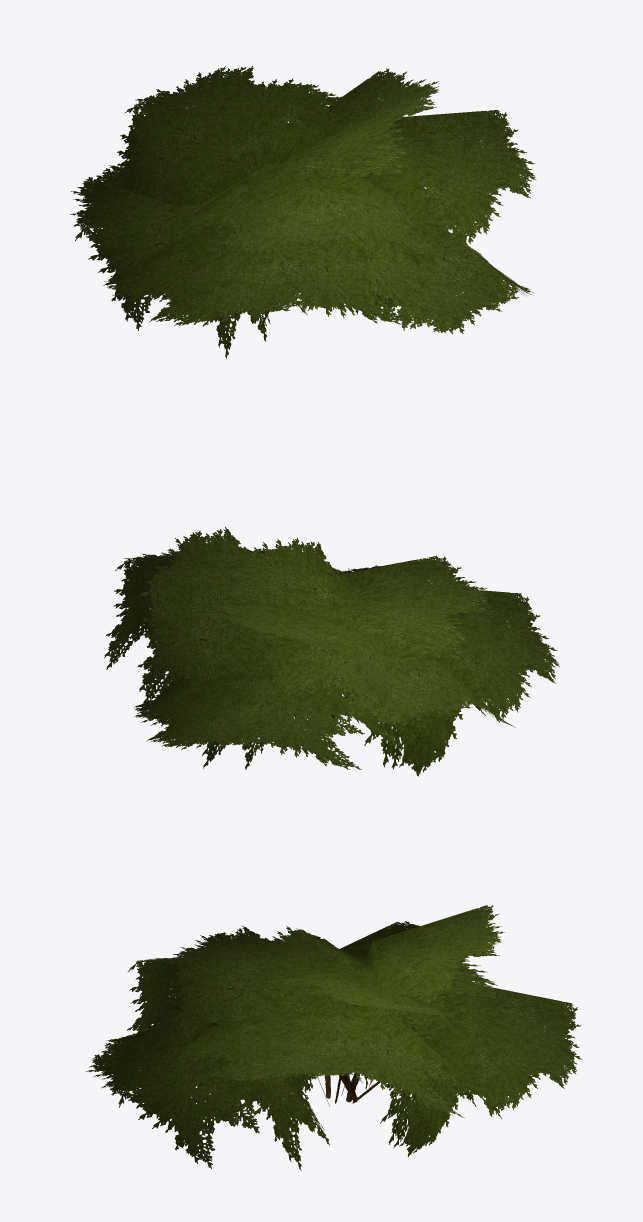
File: Juniper_bush.fbx
The picture shows the model from 3 angles, top to bottom: view 1: azimuth 30°, elevation 25°; view 2: azimuth 150°, elevation 25°; view 3: azimuth 270°, elevation 25°; orthographic projection. The views are drawn at different scales.
Parts seen in each view (by area): view 1: Juniper_bush; view 2: Juniper_bush; view 3: Juniper_bush.
Part boxes in pixels (<box>): Juniper_bush: <box>70,66,536,358</box>; Juniper_bush: <box>104,526,559,776</box>; Juniper_bush: <box>86,905,581,1170</box>.
Size of the model in its own units: 579 by 263 by 559.
